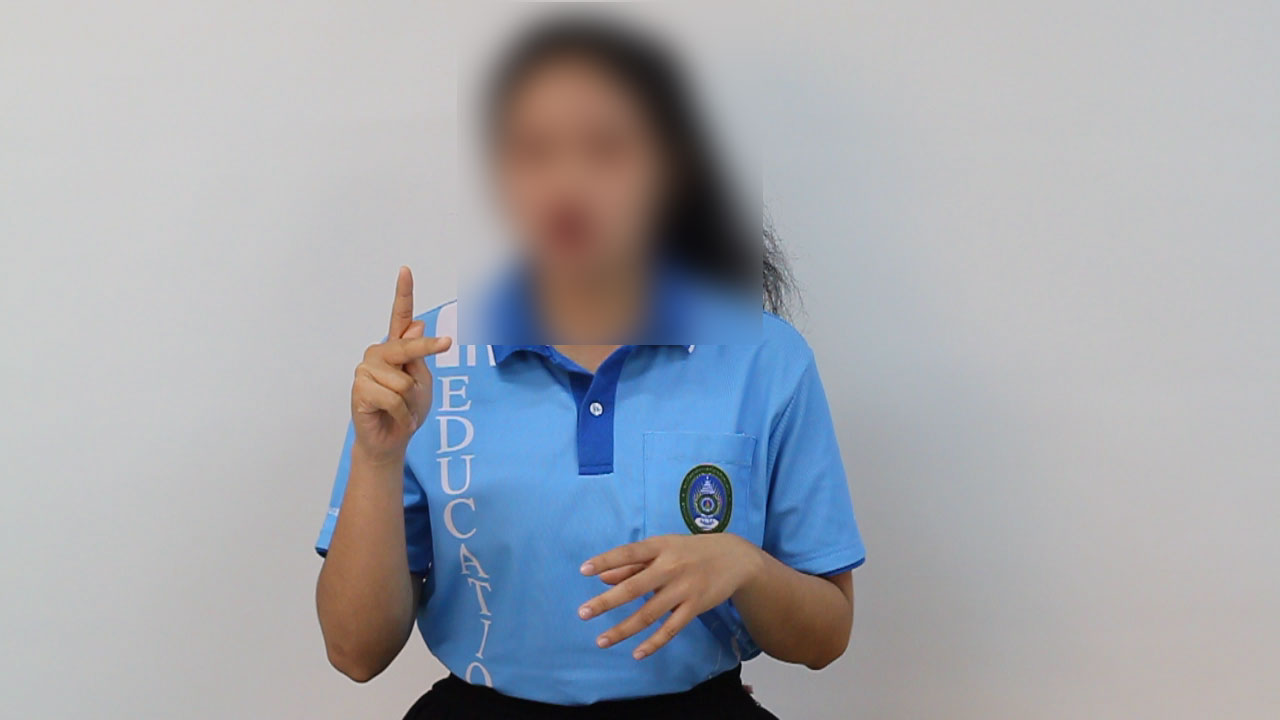ko: (300, 243, 485, 460)
